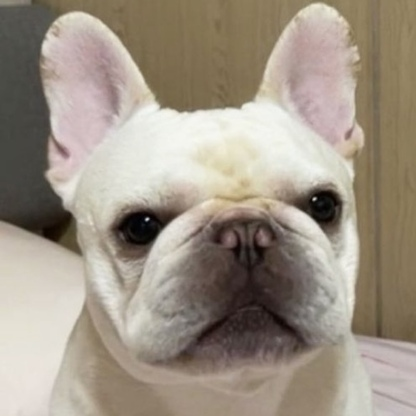bulldog: (38, 7, 379, 416)
